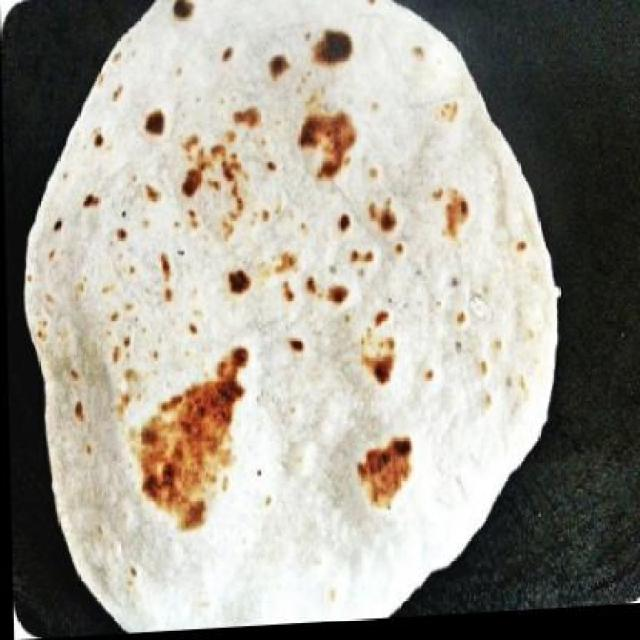chapati: (19, 0, 562, 637)
